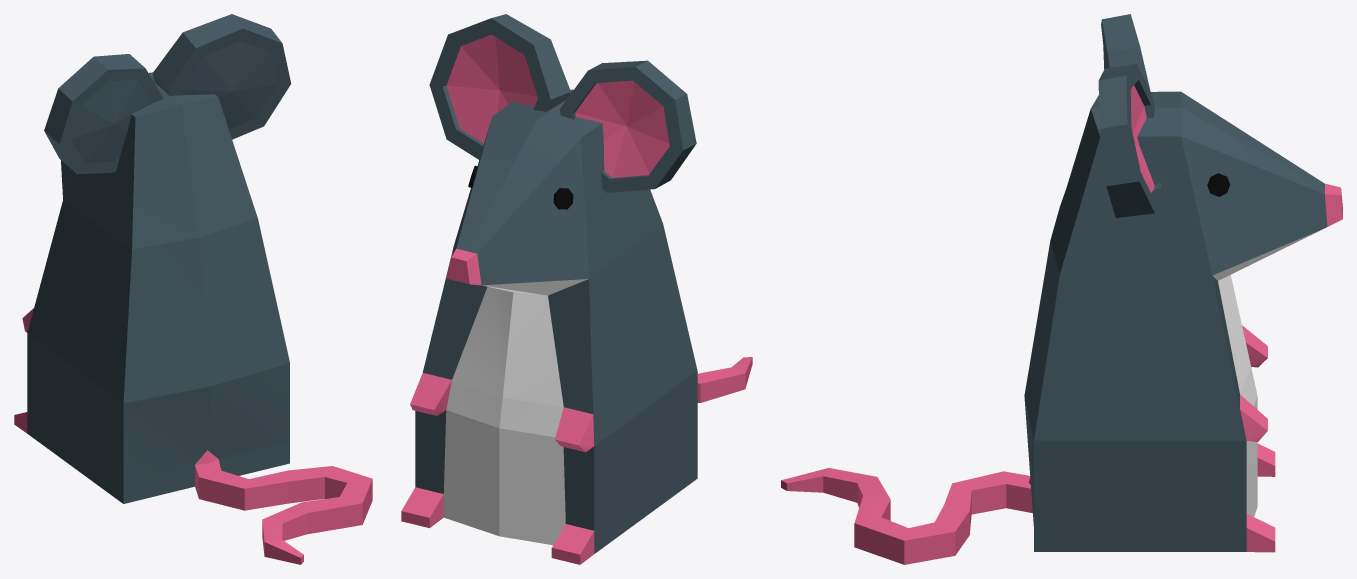
The model's file is Mouse_01.obj.
The picture shows the model from 3 angles, left to right: view 1: azimuth 30°, elevation 25°; view 2: azimuth 150°, elevation 25°; view 3: azimuth 270°, elevation 25°; orthographic projection. The views are drawn at different scales.
Visible parts, largest first — view 1: Cube.024; view 2: Cube.024; view 3: Cube.024.
Boxes of the visible parts, x1,y1,x2,y2 form: Cube.024: [14, 14, 372, 564]; Cube.024: [401, 14, 752, 564]; Cube.024: [781, 14, 1342, 564].
Size of the model in its own units: 0.6659 by 1.15 by 1.25.
